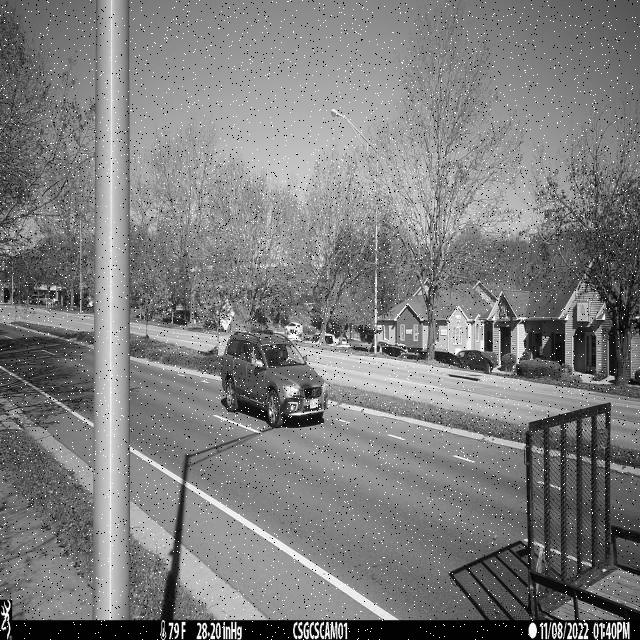SUV: (220, 330, 328, 429)
